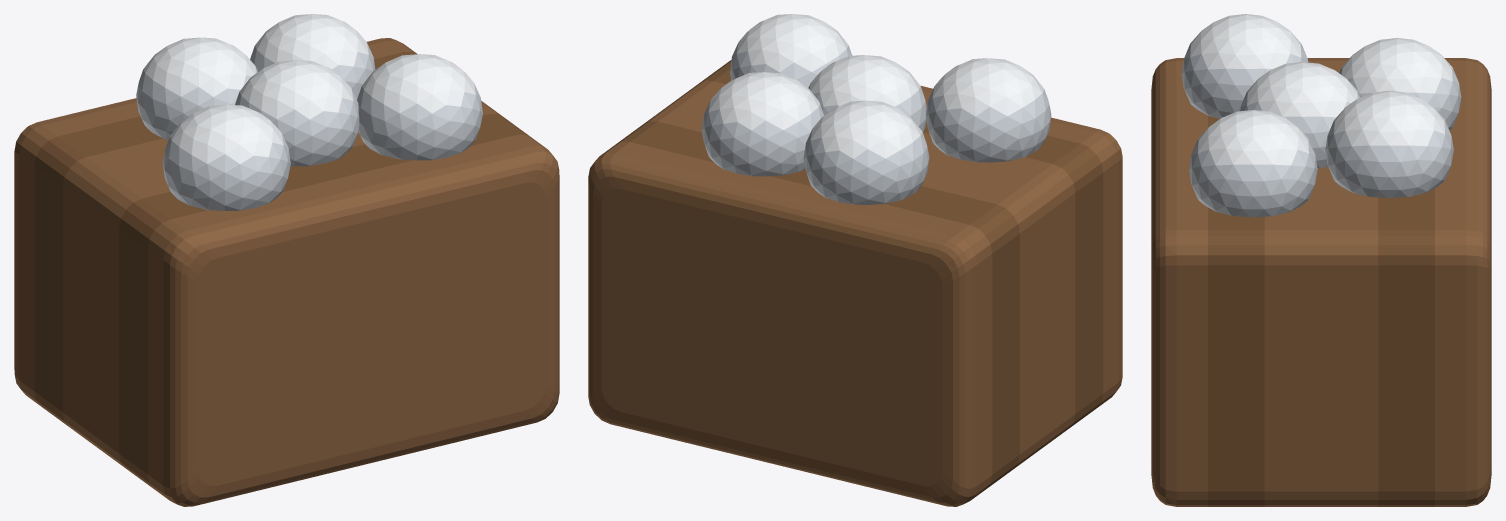
Rendered from PropCrate.obj.
3 views of the same model, side by side, from view 1: azimuth 30°, elevation 25°; view 2: azimuth 150°, elevation 25°; view 3: azimuth 270°, elevation 25° (orthographic). The views are drawn at different scales.
Size of the model in its own units: 1.2 by 1.02 by 0.9.
